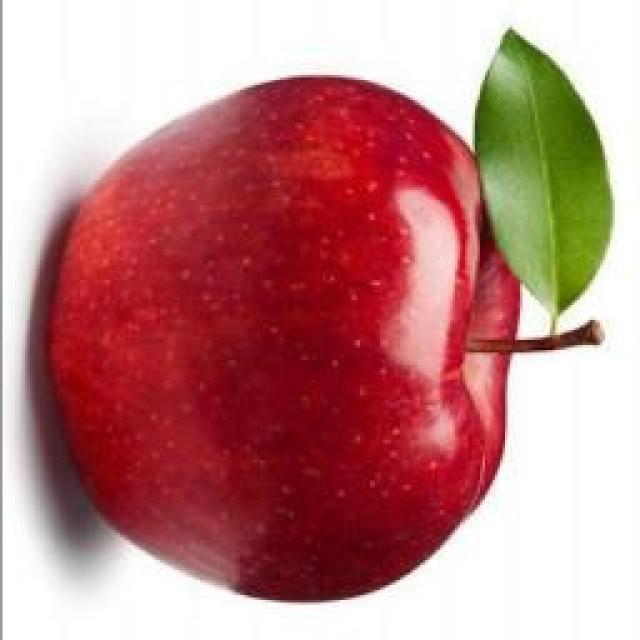Apple: (48, 78, 520, 600)
